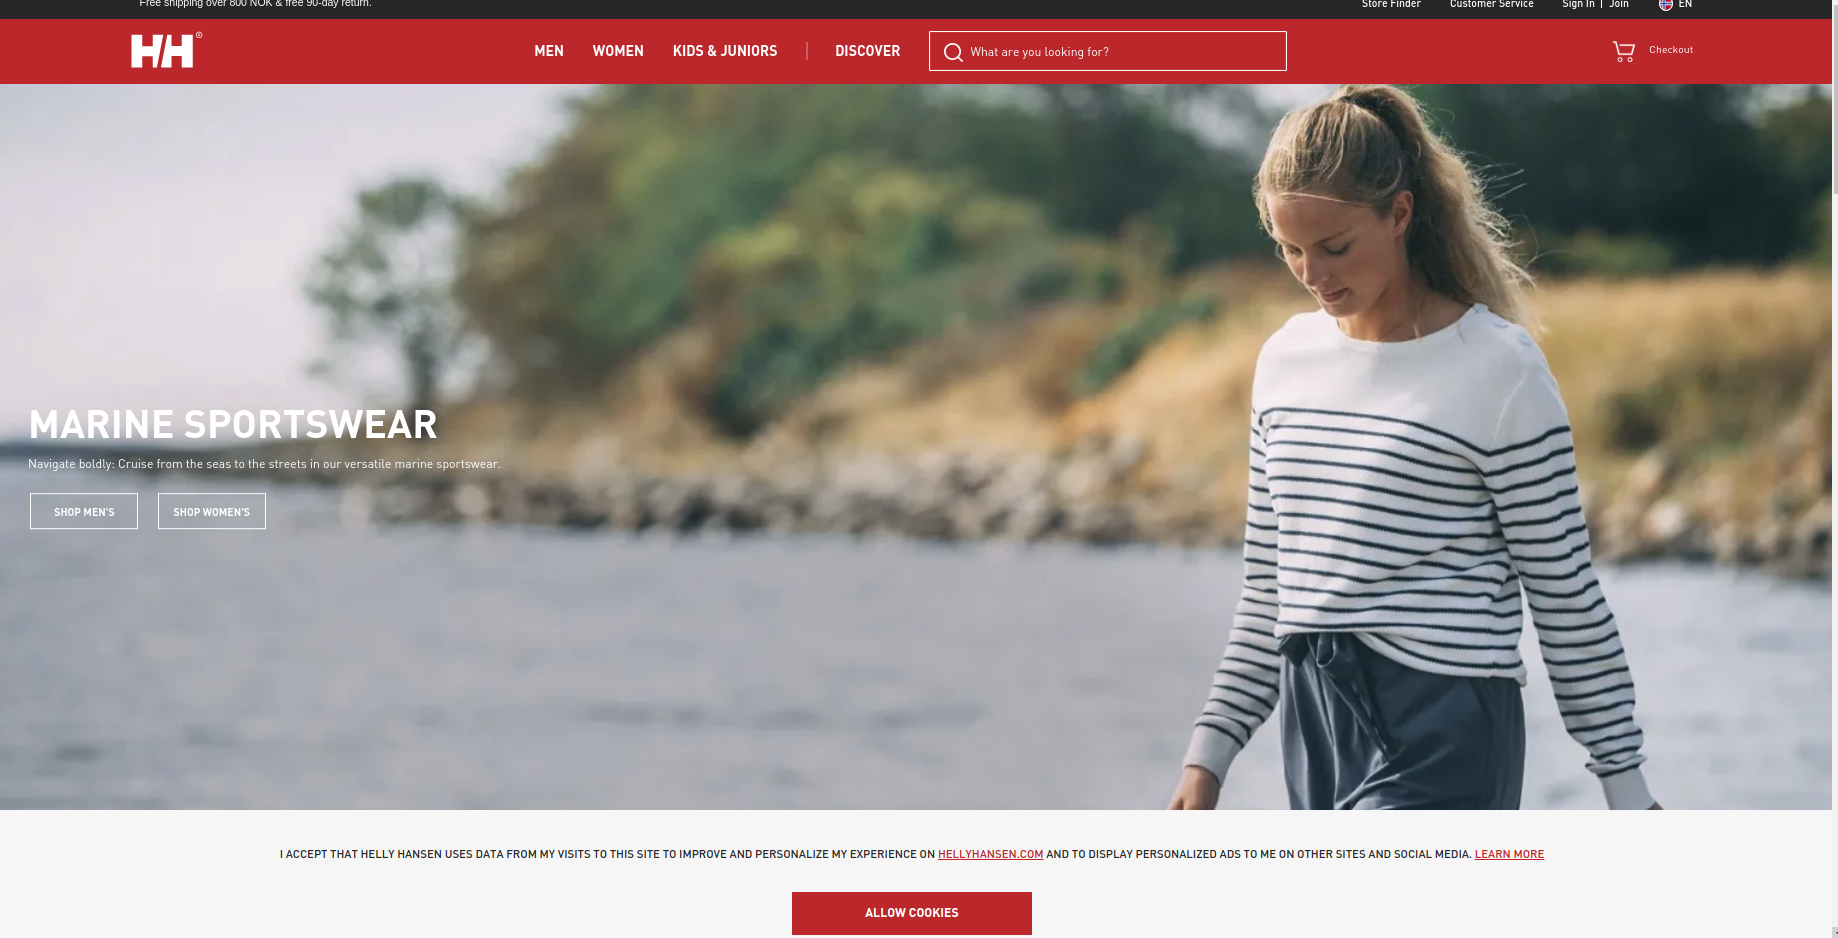Helly Hansen: (118, 26, 209, 72)
